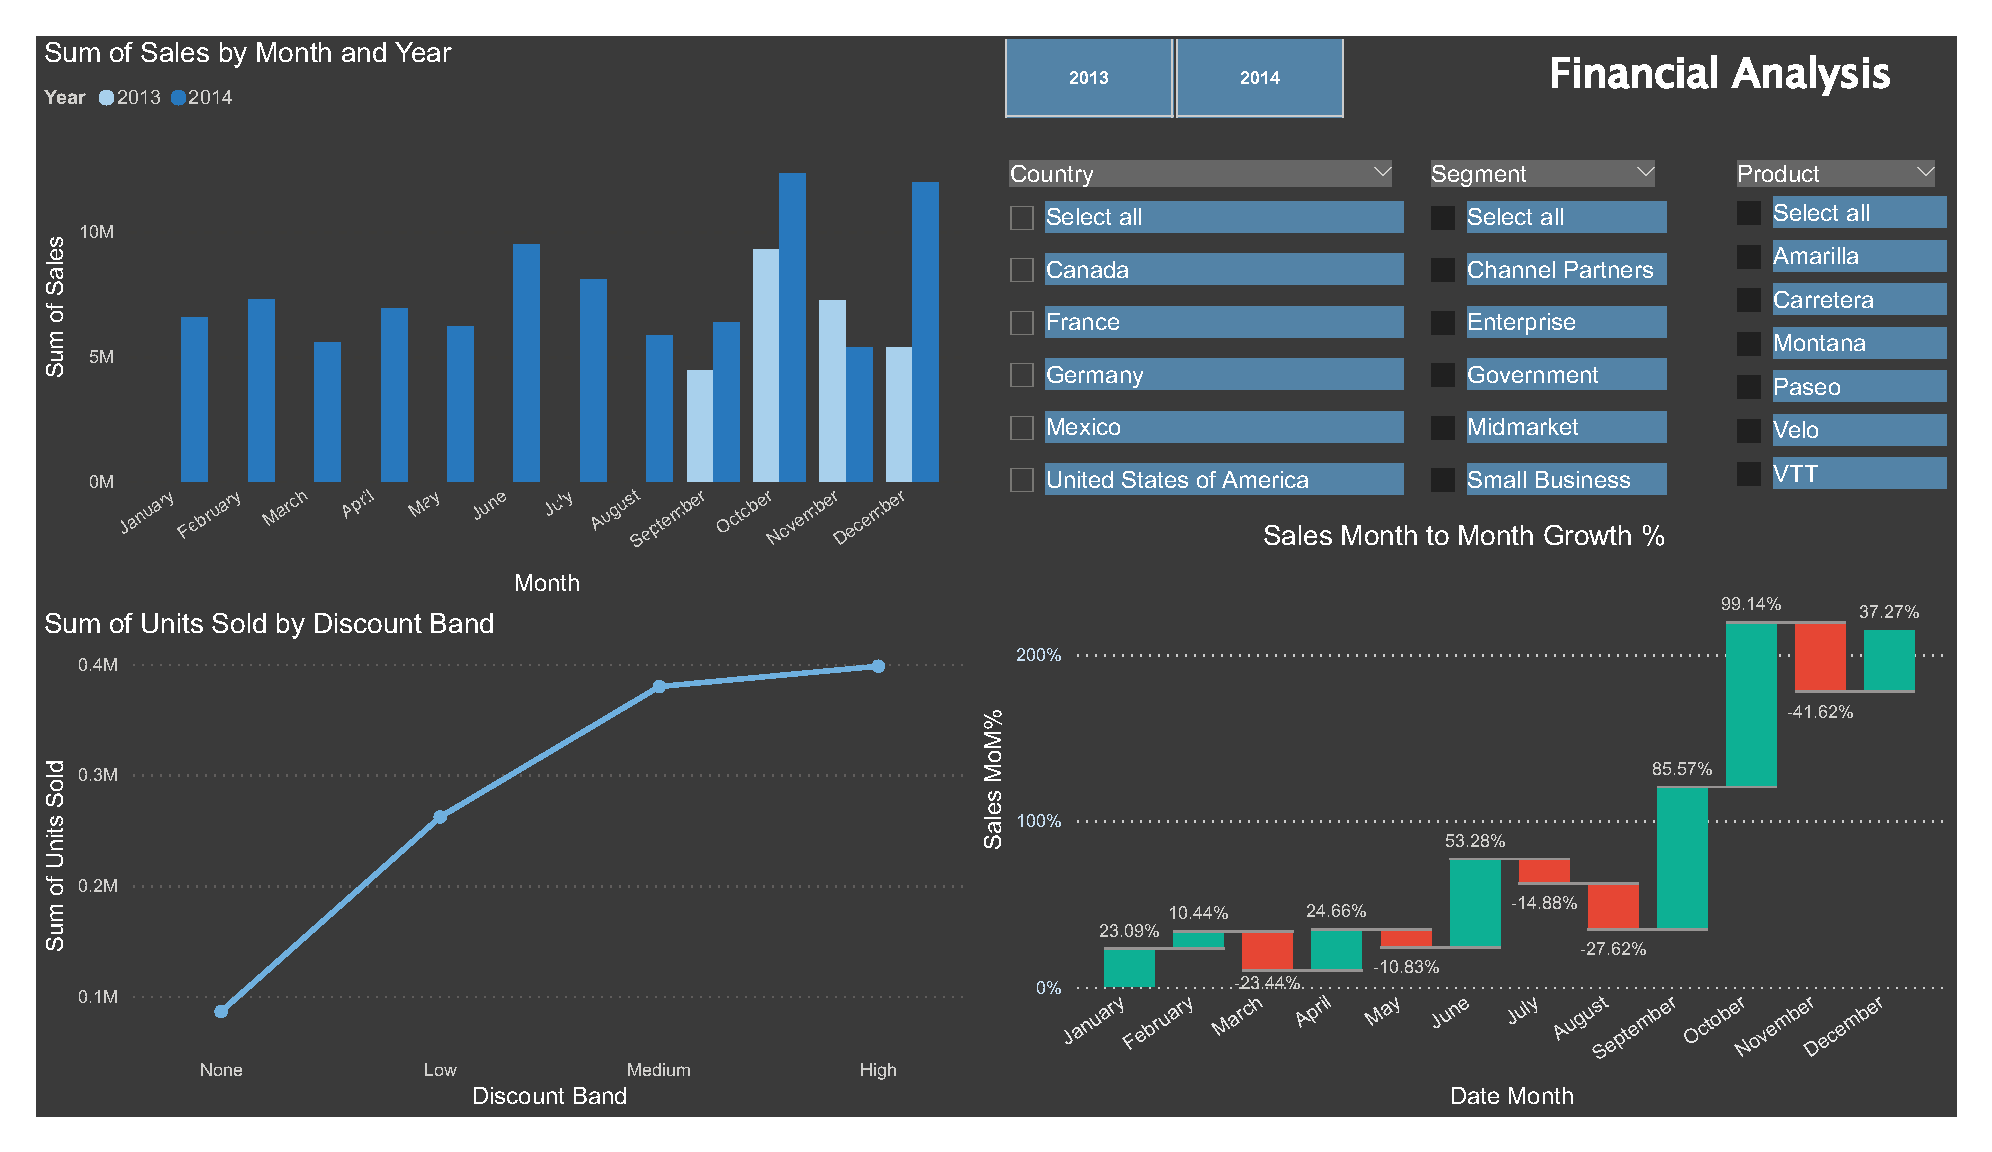

Layout of this report page (visuals, bound fields, positions):
{"tool":"powerbi","page":{"name":"Page 1","canvas":[1280,720],"ordinal":0},"visuals":[{"type":"clusteredColumnChart","fields":{"Category":["Calendar.Date.Variation.Date Hierarchy.Year","Calendar.Date.Variation.Date Hierarchy.Month"],"Series":["Calendar.Date.Variation.Date Hierarchy.Year"],"Y":["Sum(financials. Sales)"]},"box":[0,0,624.6,378.3],"z":0},{"type":"lineChart","fields":{"Category":["financials.Discount Band"],"Y":["Sum(financials.Units Sold)"]},"box":[0,381.5,624.6,338.5],"z":1000},{"type":"slicer","fields":{"Values":["financials.Country"]},"box":[635.7,78.1,281.1,240.5],"z":2000},{"type":"slicer","fields":{"Values":["Calendar.Date.Variation.Date Hierarchy.Year"]},"box":[624.7,0,267.1,57.8],"z":3000},{"type":"slicer","fields":{"Values":["financials.Segment"]},"box":[916.8,78.1,174.9,243.6],"z":4000},{"type":"slicer","fields":{"Values":["financials.Product"]},"box":[1121.4,78.1,157.7,240.5],"z":5000},{"type":"waterfallChart","title":" Sales Month to Month Growth %","fields":{"Y":["Calendar. Sales MoM%"],"Category":["Calendar.Date.Variation.Date Hierarchy.Month"]},"box":[624.7,321.7,654.4,398.3],"z":6000},{"type":"textbox","box":[1004.3,0,276.4,57.8],"z":7000}]}

Visuals, with their boxes in screenshot pixels (x1, y1, x2, y2), scaled from the page's 1280x720 canvas onto the 1992x1152 screenshot:
clusteredColumnChart - Calendar.Date.Variation.Date Hierarchy.Year x Calendar.Date.Variation.Date Hierarchy.Month: box(0, 0, 972, 605)
lineChart - financials.Discount Band x Sum(financials.Units Sold): box(0, 610, 972, 1151)
slicer - financials.Country: box(989, 125, 1427, 510)
slicer - Calendar.Date.Variation.Date Hierarchy.Year: box(972, 0, 1388, 92)
slicer - financials.Segment: box(1427, 125, 1699, 515)
slicer - financials.Product: box(1745, 125, 1991, 510)
" Sales Month to Month Growth %" waterfallChart: box(972, 515, 1991, 1151)
textbox: box(1563, 0, 1991, 92)
